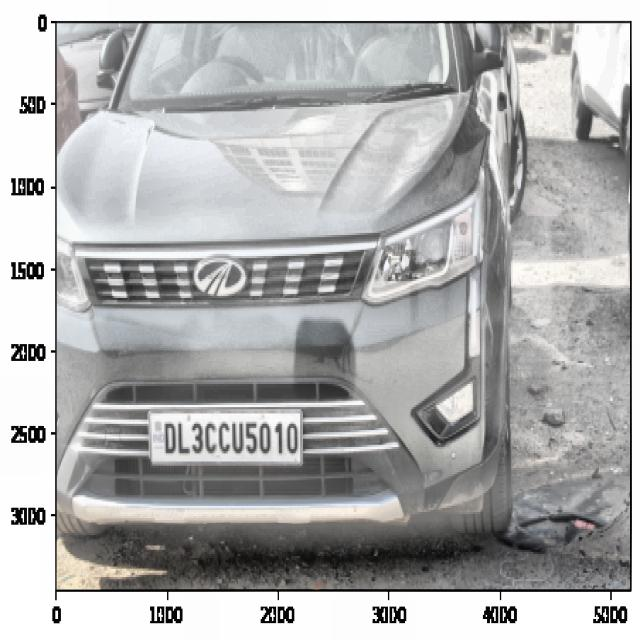license_plate: (161, 408, 302, 467)
